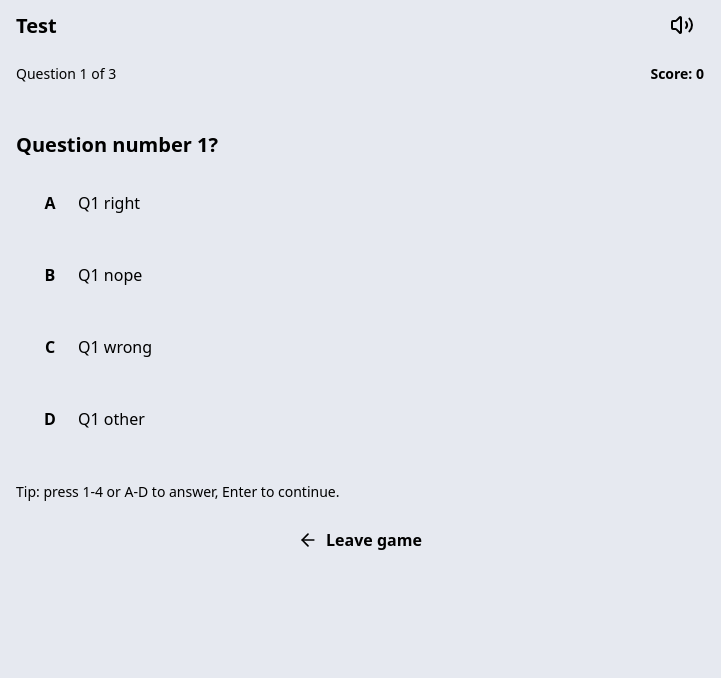
Scenario: TestGameScreen: result › a perfect game: 5 stars, saved once, fanfare and confetti
Earlier steps of the test are not shown.
Click the button "A Q1 right": (109, 203) [16,173,704,233]
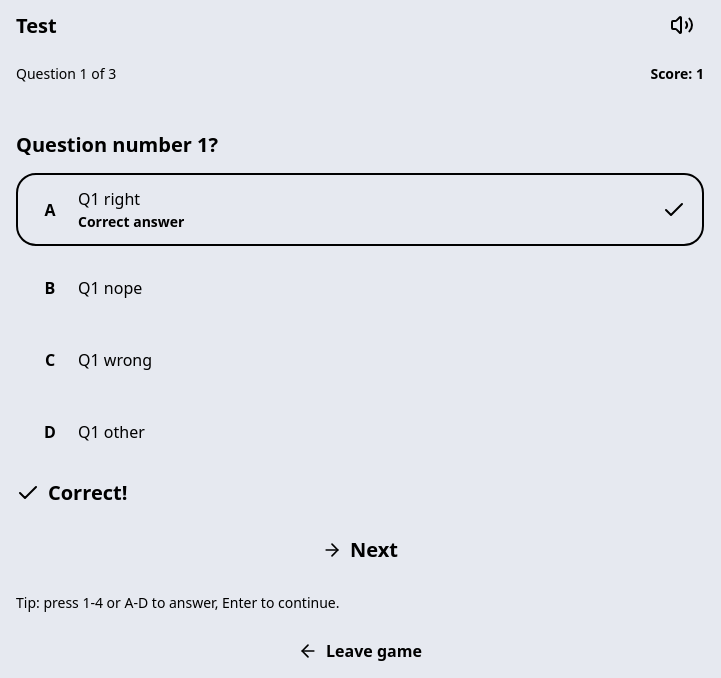
Click the button "Next": (360, 550) [16,524,704,576]
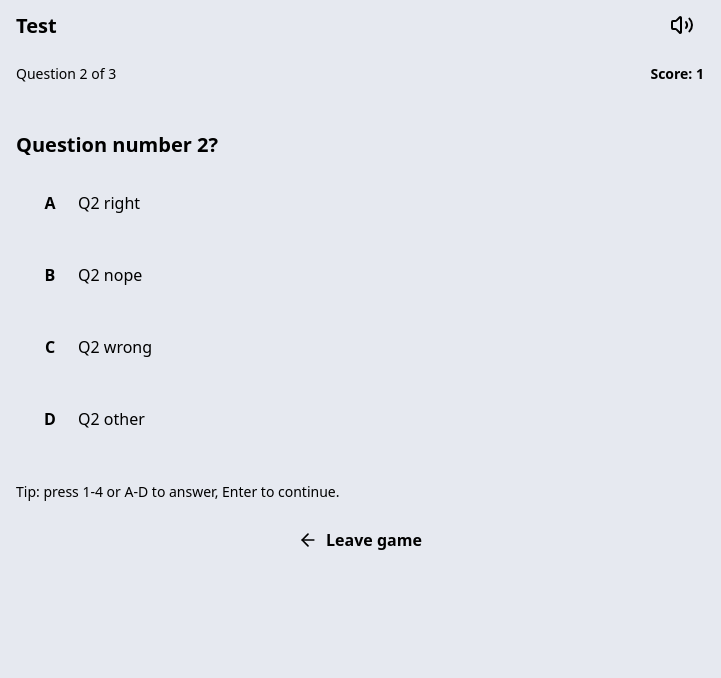
Click the button "A Q2 right": (109, 203) [16,173,704,233]
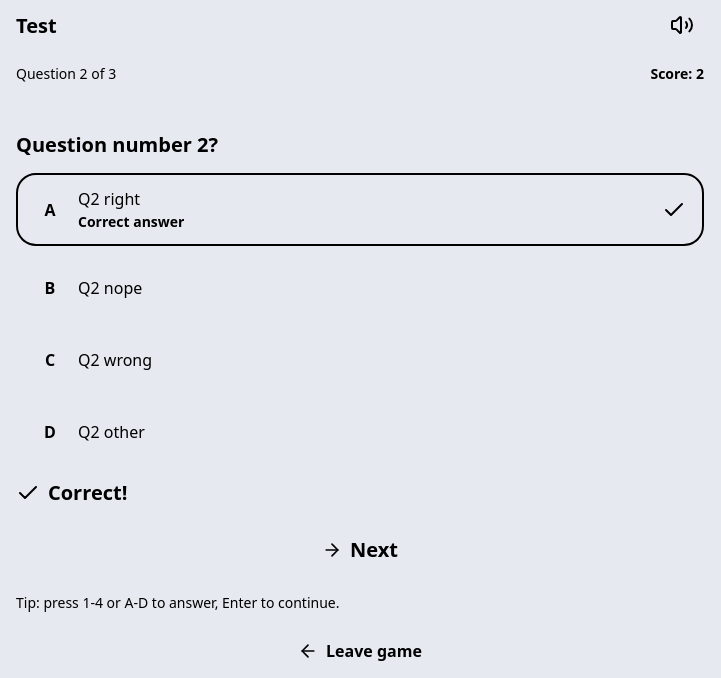
Click the button "Next": (360, 550) [16,524,704,576]
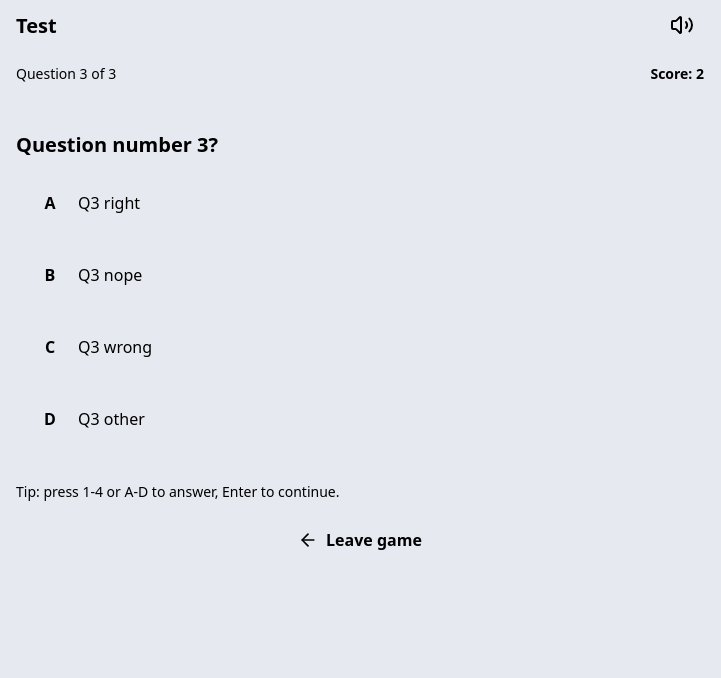
Click the button "A Q3 right": (109, 203) [16,173,704,233]
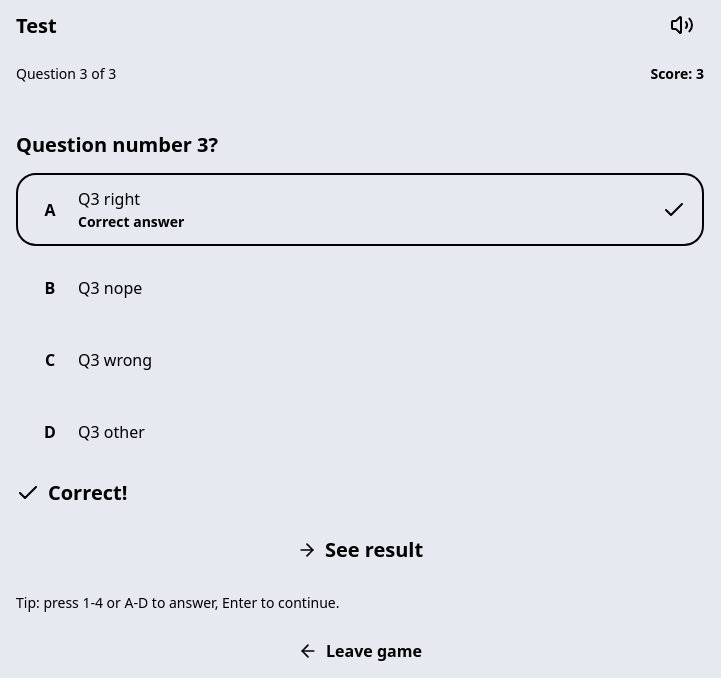
Click the button "See result": (360, 550) [16,524,704,576]
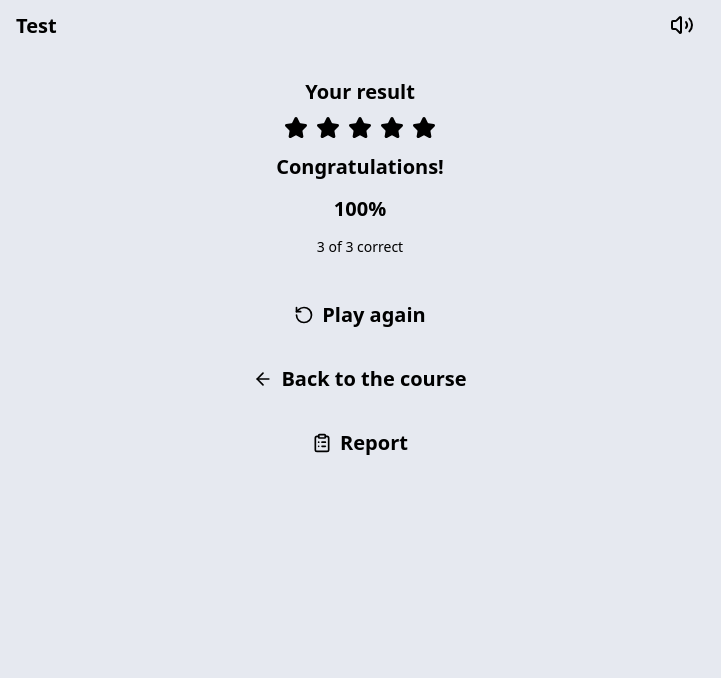
Now the heading "Your result" is shown, box [305,79,415,104]
Now the text "100%" is shown, box [334,194,386,224]
Now the text "3 of 3 correct" is shown, box [317,236,403,257]
